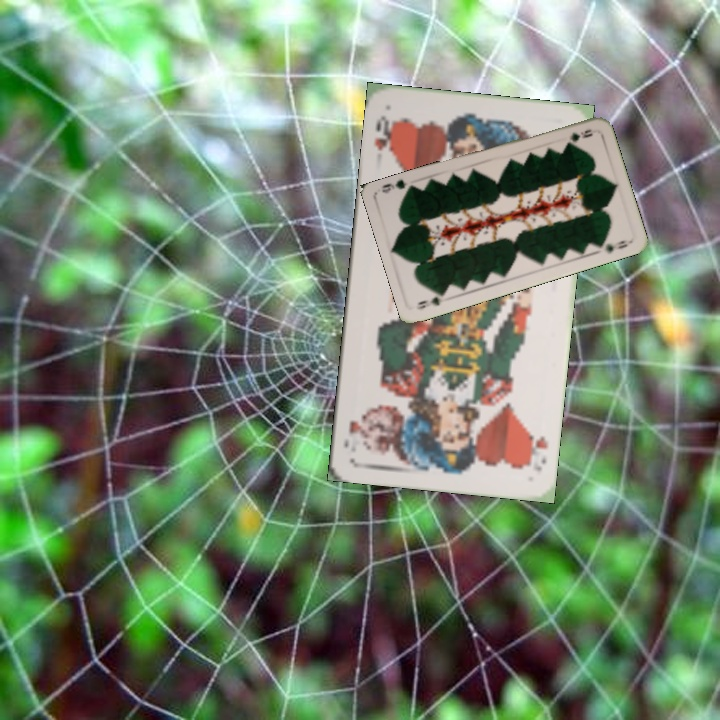G9: (412, 288, 450, 312), (566, 125, 595, 143)
HO: (522, 427, 550, 474), (371, 112, 398, 160)
